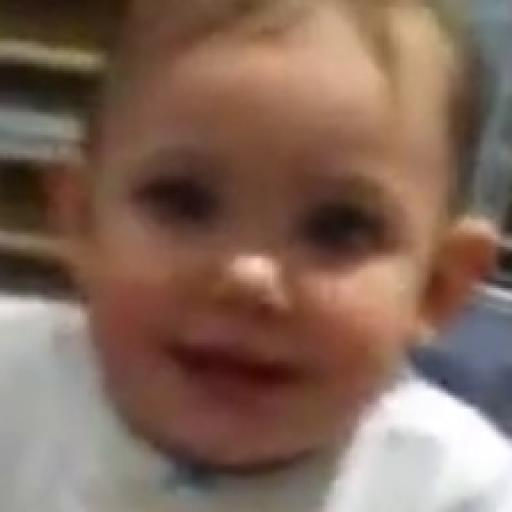Autism: (95, 12, 475, 498)
